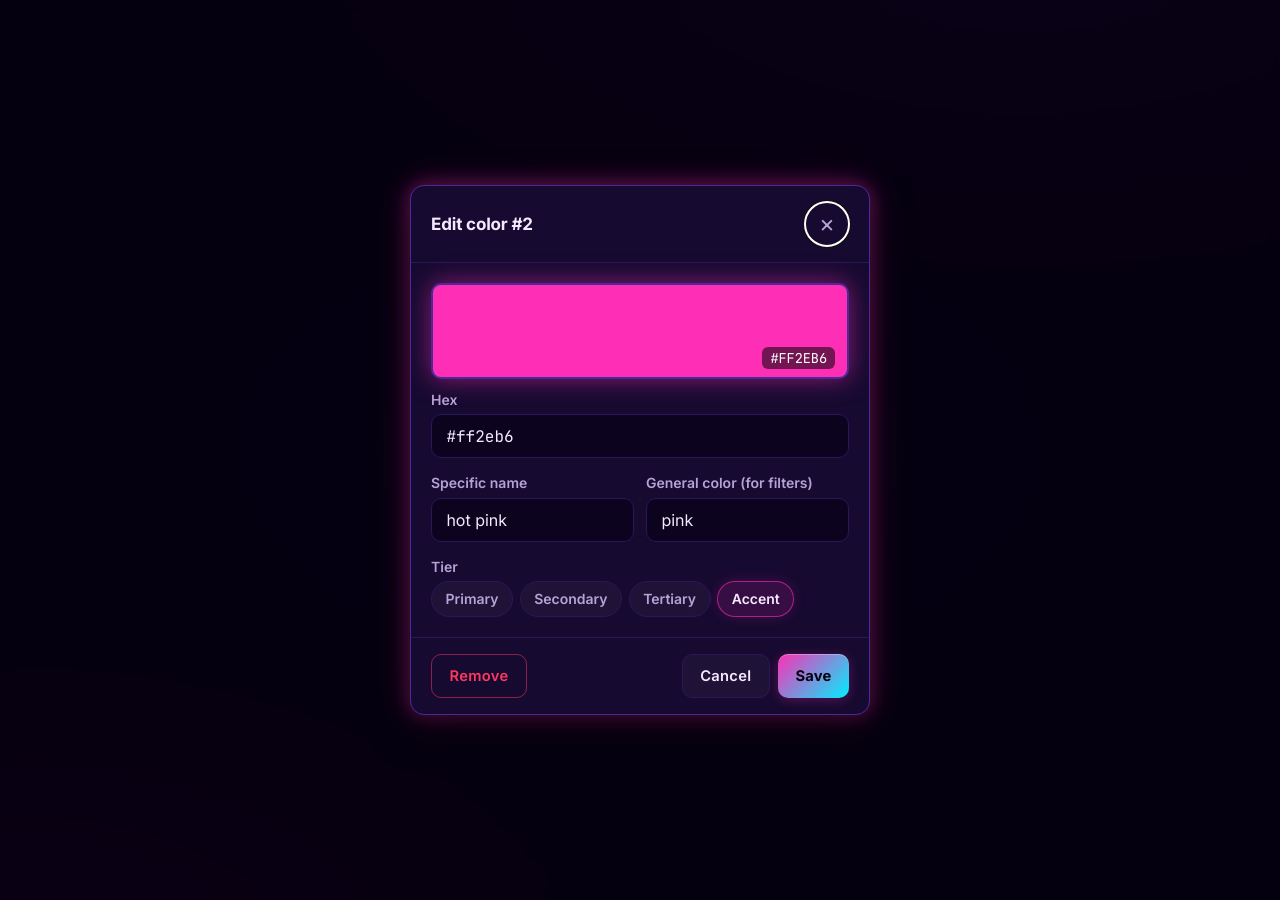
Test: ColorEditModal — save › keeps the editor open and says why when the save fails
This screenshot has width=1280, height=900.
Click the button "Save" at (814, 676), box [778, 654, 849, 698]
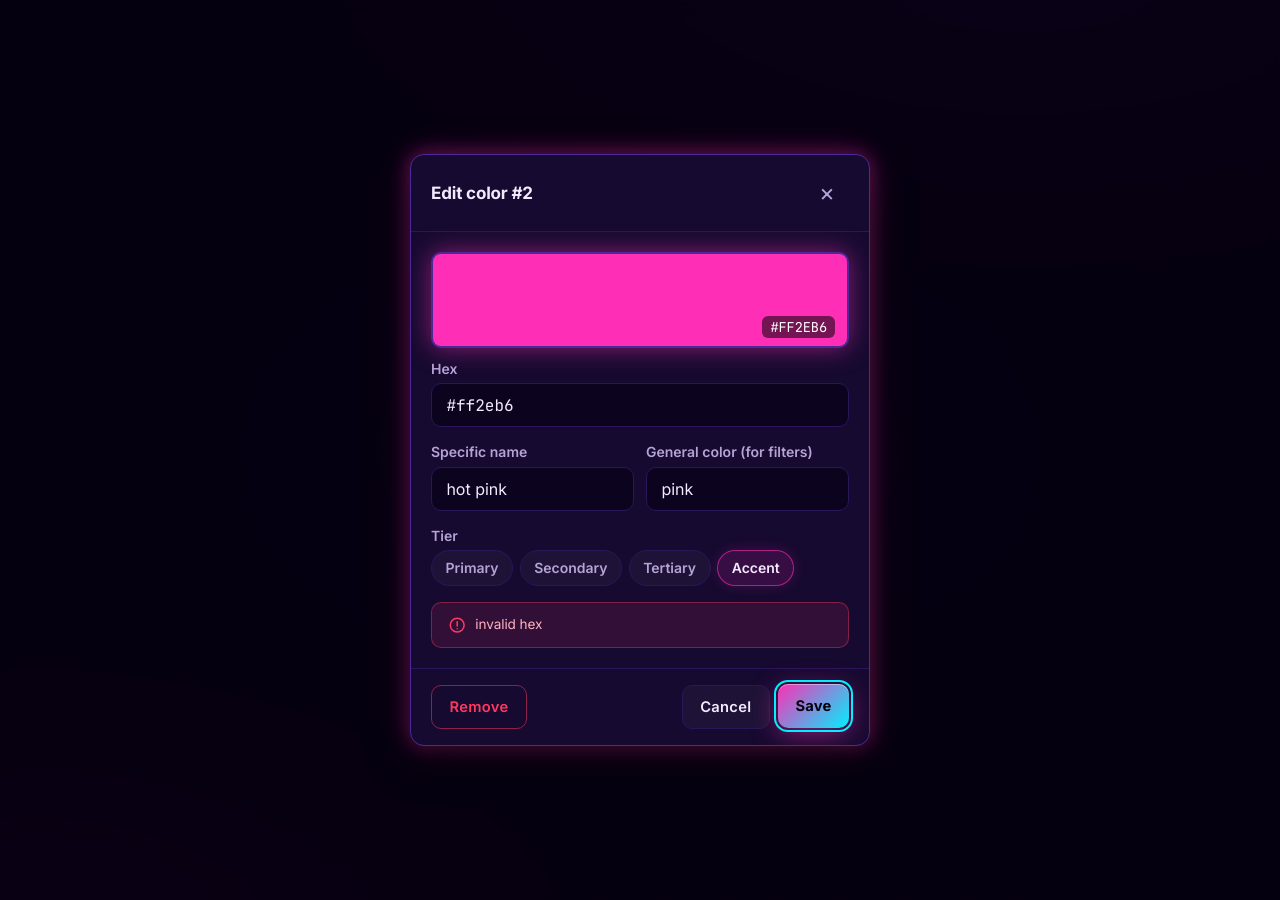
Result: the text "invalid hex" is shown at [475, 615, 542, 635]
